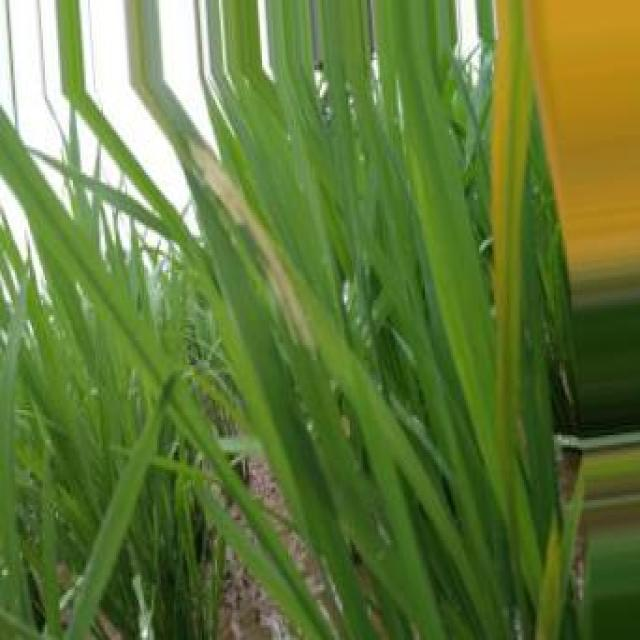Rice Tungro: (189, 140, 315, 355), (491, 0, 533, 475)
